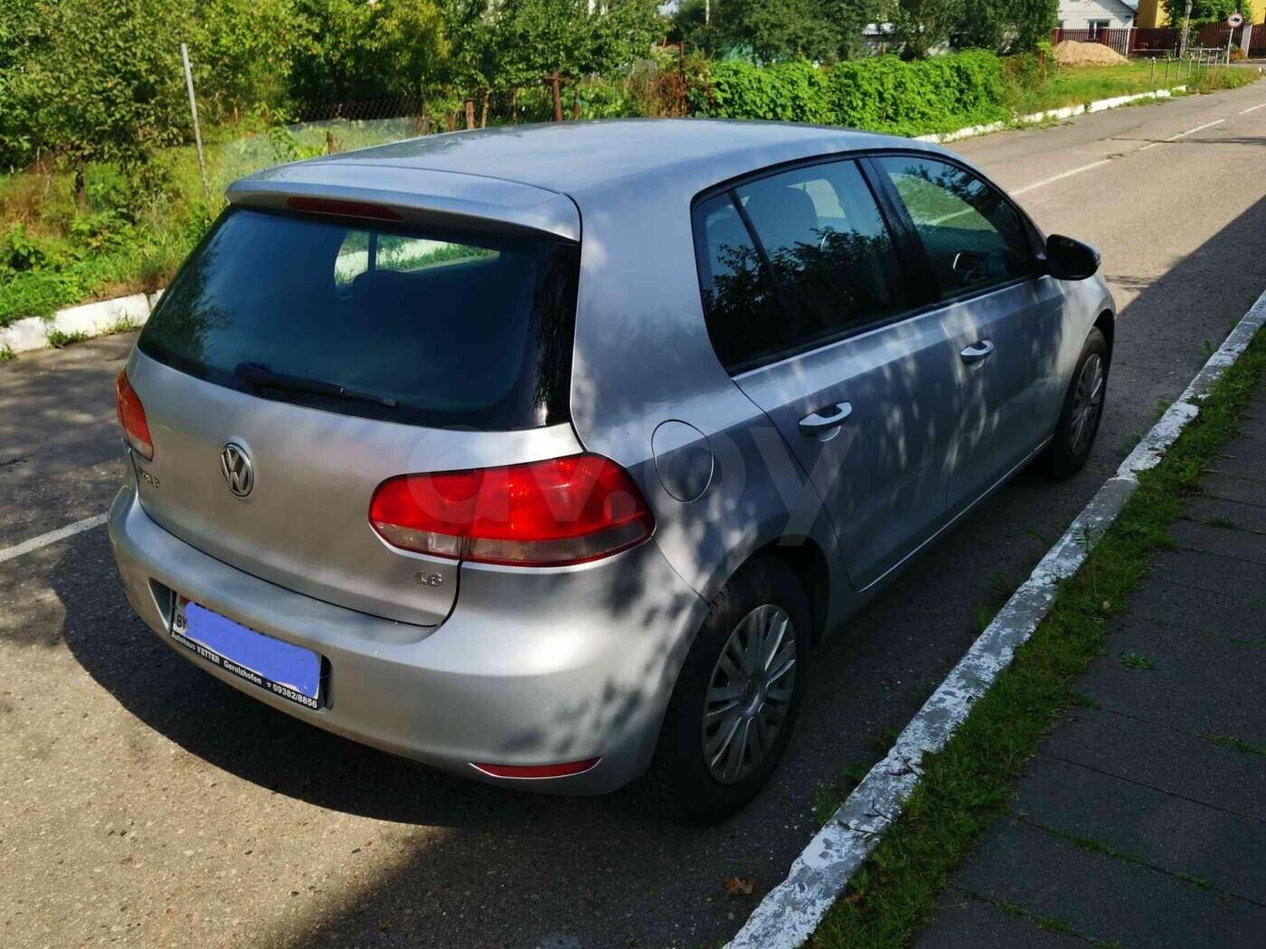Golf_2008-2013: (89, 107, 1147, 783)
